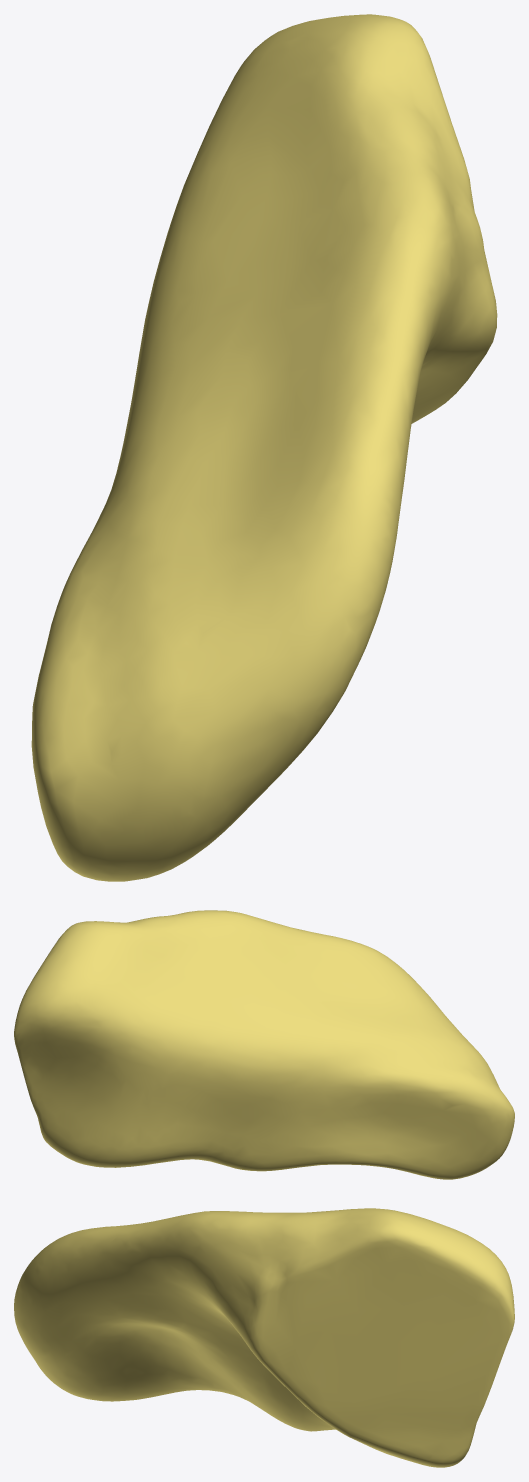
The model's file is anterior-quadrangular-lobule-r.glb.
3 renders of one model, top to bottom at view 1: azimuth 30°, elevation 25°; view 2: azimuth 150°, elevation 25°; view 3: azimuth 270°, elevation 25°, orthographic. The views are drawn at different scales.
Parts seen in each view (by area): view 1: Anterior quadrangular lobule.r; view 2: Anterior quadrangular lobule.r; view 3: Anterior quadrangular lobule.r.
Part boxes in pixels (x1,y1,x2,y2): Anterior quadrangular lobule.r: (31,14,497,881); Anterior quadrangular lobule.r: (14,910,514,1179); Anterior quadrangular lobule.r: (14,1208,514,1467).
Bounding box in the file's own units: 0.0305 × 0.0251 × 0.0348.
